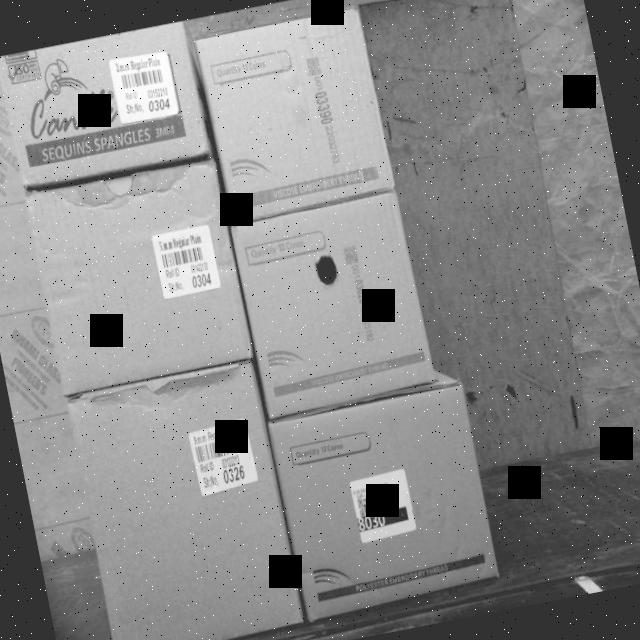box: (63, 364, 305, 640), (266, 381, 504, 624), (23, 158, 255, 398), (230, 192, 438, 422), (196, 8, 397, 225), (0, 20, 211, 186)
